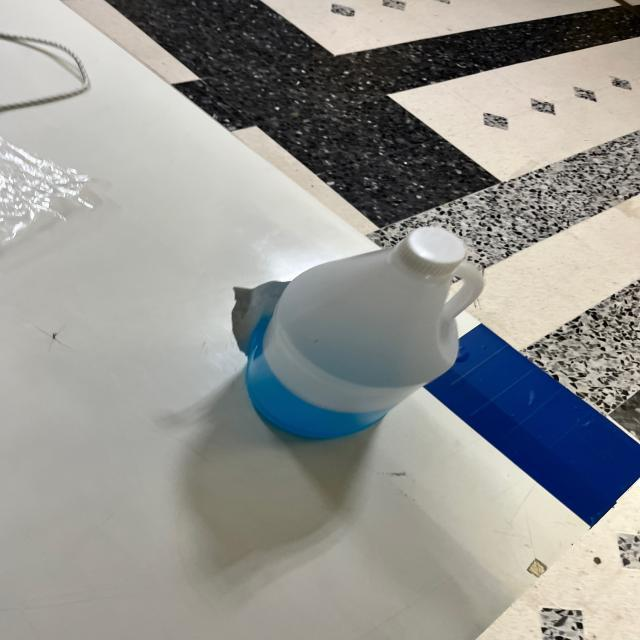HDPE Plastic: (242, 226, 484, 441)
